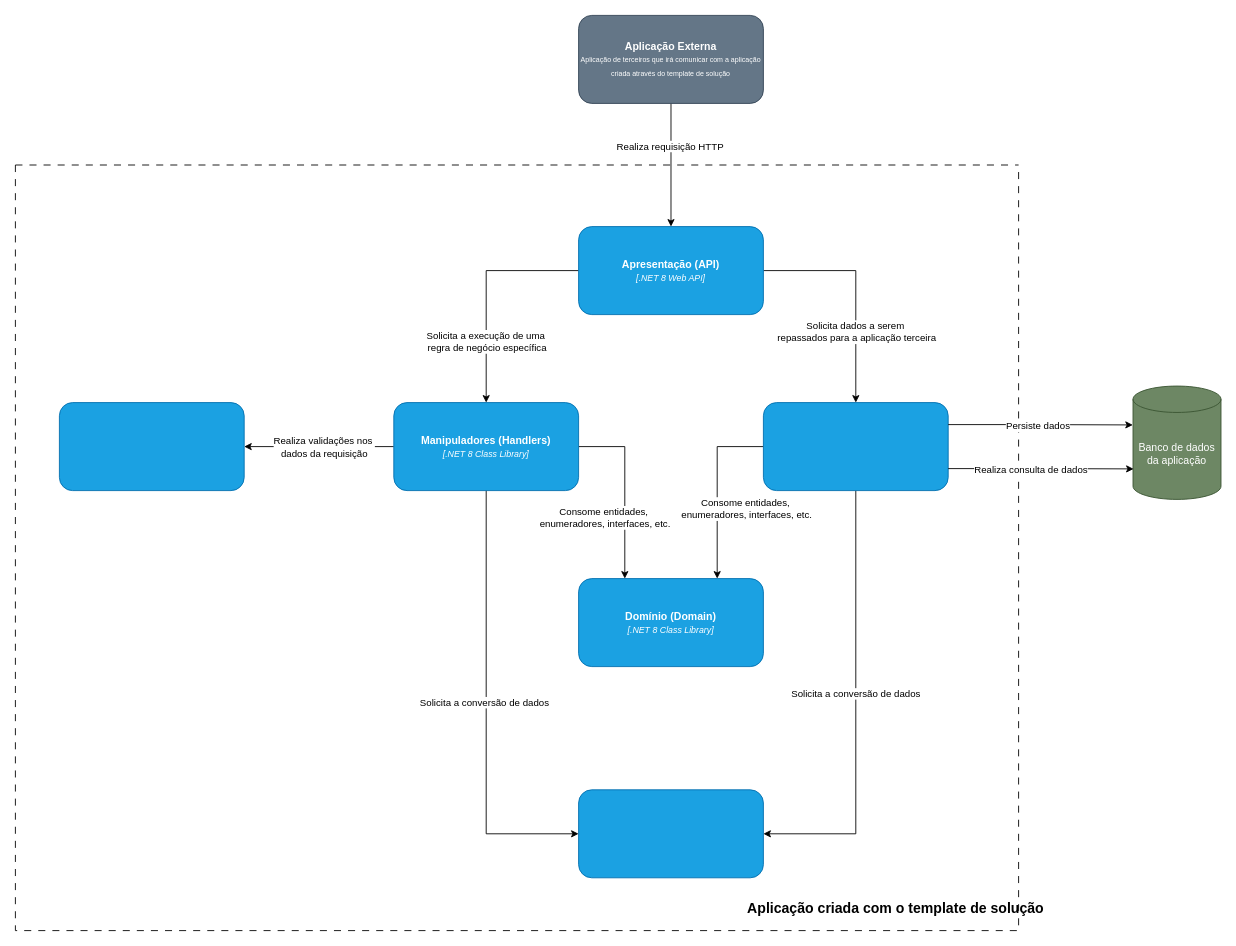
Some shapes in this 1236 by 946 pixel diagram are drawn without their labels. Here are the shapes that lost their labels. From the top down, the centre of each, then its label:
At pixel 151 446: "Validadores (Validations) [.NET 8 Class Library]".
At pixel 855 446: "Infraestrutura (Infra) [.NET 8 Class Library]".
At pixel 670 833: "Conversores (TypeConverters) [.NET 8 Class Library]".
